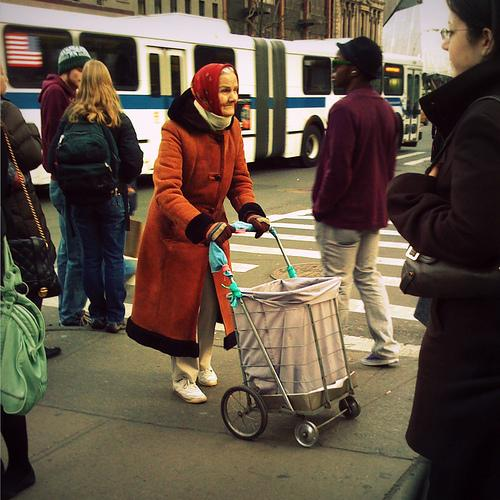person: (121, 57, 271, 408)
